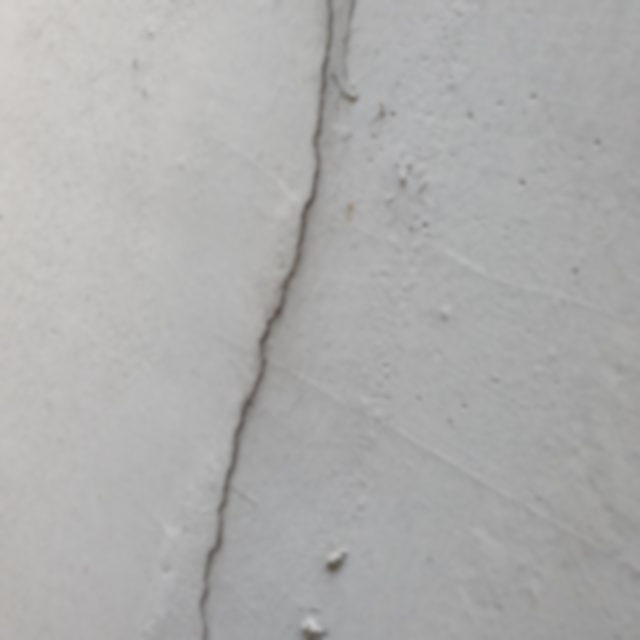SurfaceCrack: (170, 0, 377, 640)
